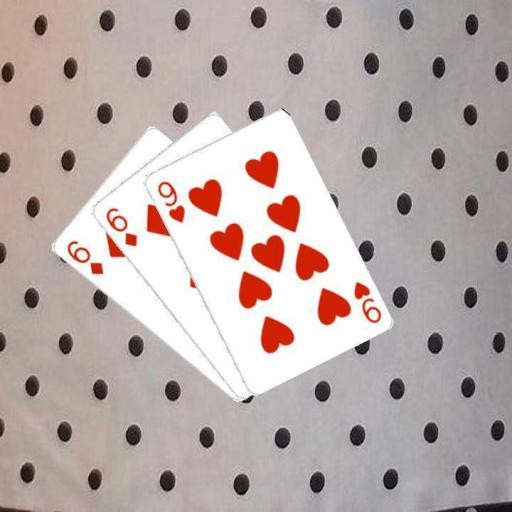card-corner: (62, 236, 104, 276), (102, 204, 138, 248), (154, 177, 186, 225), (350, 278, 382, 325)
